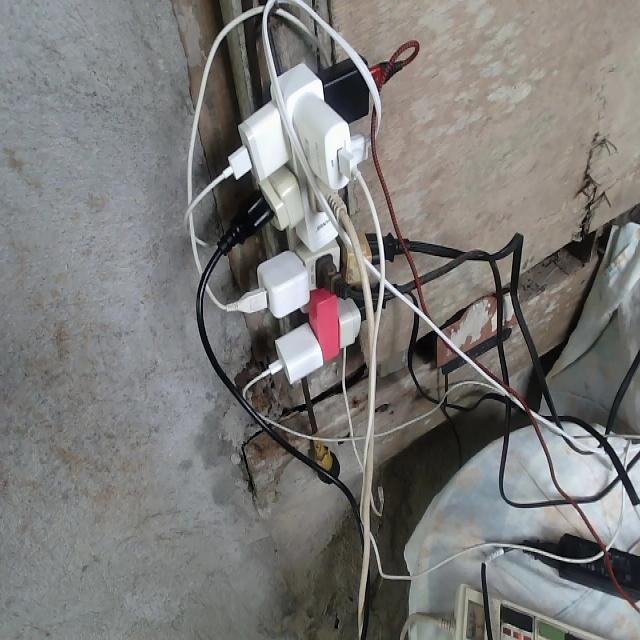-: (184, 35, 423, 388)
